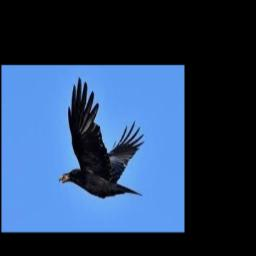Crow: (59, 77, 143, 198)
